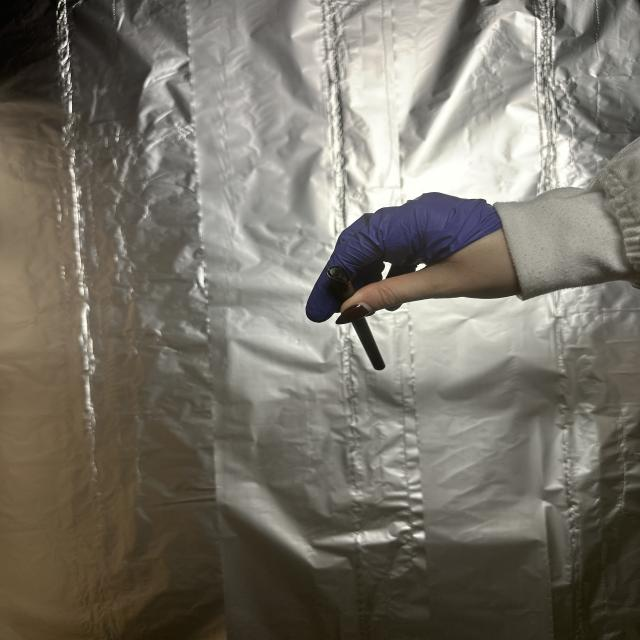glove_partial: (306, 192, 527, 324)
